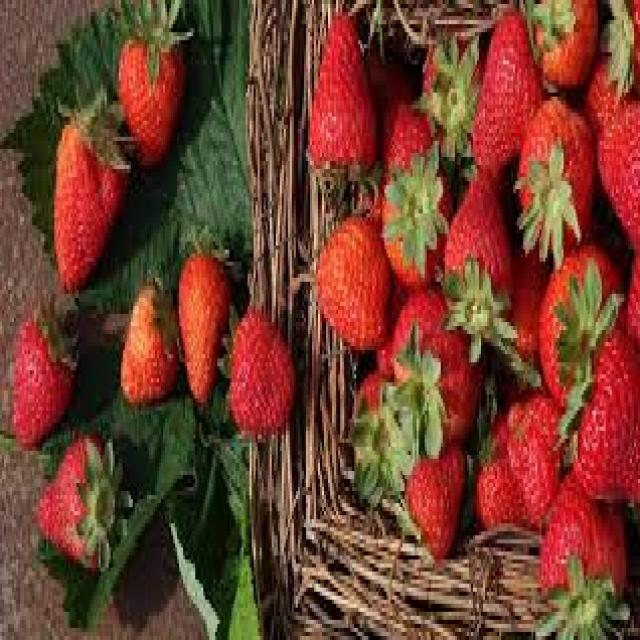organic waste: (559, 286, 638, 495), (48, 88, 127, 294), (537, 459, 626, 636), (535, 238, 624, 398), (26, 431, 123, 572), (380, 104, 449, 290), (441, 169, 517, 330), (515, 104, 596, 250), (306, 12, 376, 177), (314, 193, 384, 350), (115, 8, 183, 169), (471, 16, 535, 177), (14, 298, 79, 447), (227, 298, 296, 435), (113, 270, 177, 410), (419, 36, 485, 169), (417, 302, 475, 447), (501, 258, 550, 407), (181, 230, 222, 406), (471, 410, 523, 548), (499, 399, 558, 511), (362, 44, 419, 157), (352, 382, 411, 491), (598, 100, 638, 258), (406, 463, 469, 563), (523, 0, 590, 93), (392, 302, 443, 402), (604, 0, 638, 89), (580, 56, 618, 129), (618, 254, 638, 370)
